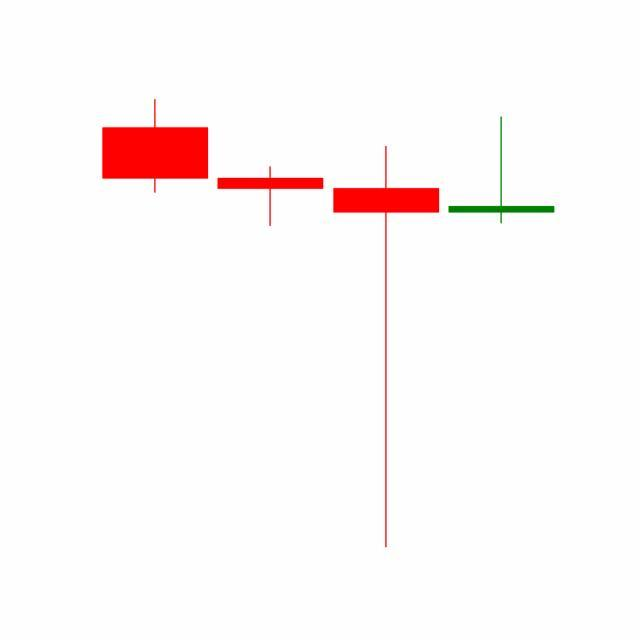Spinning Top: (444, 116, 560, 226)
